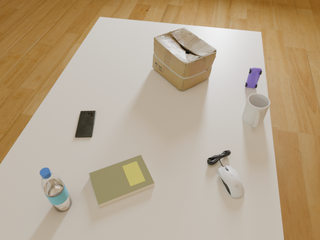book: (89, 155, 154, 207)
bottle: (40, 168, 72, 212)
box: (152, 28, 216, 91)
cup: (242, 93, 270, 127)
mouse: (218, 166, 244, 198)
phone: (75, 111, 96, 137)
toy_car: (245, 67, 262, 88)
